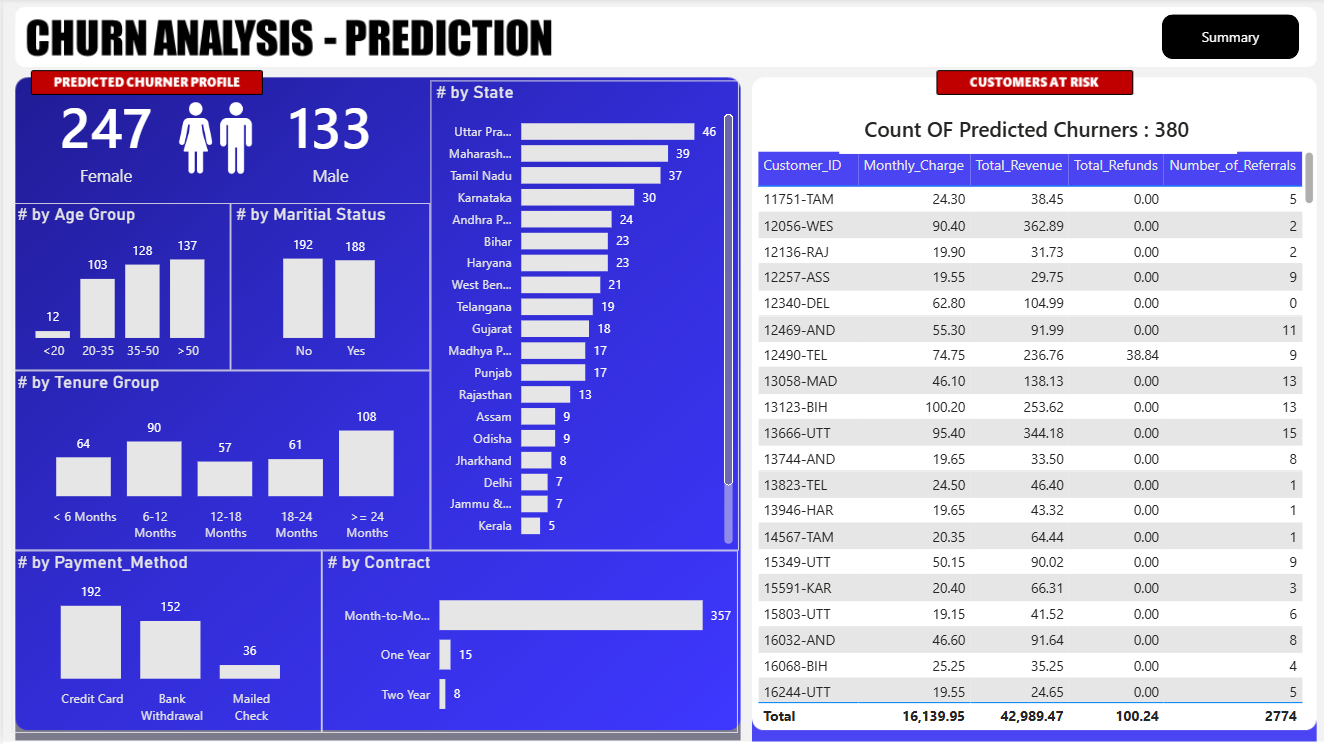

The dashboard page shown, as its layout file describes it:
{"tool":"powerbi","page":{"name":"Churn Prediction","canvas":[1280,720],"ordinal":2},"visuals":[{"type":"tableEx","fields":{"Values":["Predictions.Customer_ID","Sum(Predictions.Monthly_Charge)","Sum(Predictions.Total_Revenue)","Sum(Predictions.Total_Refunds)","Sum(Predictions.Number_of_Referrals)"]},"box":[722.7,143.6,547.7,565.8],"z":0},{"type":"cardVisual","fields":{"Data":["Measure Table 2.Title Predicted Churners"]},"box":[802.3,95.3,394.5,60.3],"z":1000},{"type":"cardVisual","fields":{"Data":["Measure Table 2.Count Predicted Churner"]},"box":[8.4,71.2,182.2,126.7],"z":2000},{"type":"cardVisual","fields":{"Data":["Measure Table 2.Count Predicted Churner"]},"box":[219.6,71.2,193,126.7],"z":3000},{"type":"clusteredColumnChart","fields":{"Category":["mapping_AgeGroup.Age Group"],"Y":["CountNonNull(Predictions.Customer_ID)"]},"box":[8.4,197.9,211.1,161.7],"z":4000},{"type":"clusteredColumnChart","fields":{"Category":["Predictions.Married"],"Y":["CountNonNull(Predictions.Customer_ID)"]},"box":[219.6,197.9,193,161.7],"z":5000},{"type":"clusteredColumnChart","fields":{"Category":["mapping_TenureGroup.Tenure Group"],"Y":["CountNonNull(Predictions.Customer_ID)"]},"box":[8.4,359.5,404.2,173.7],"z":6000},{"type":"clusteredColumnChart","fields":{"Category":["Predictions.Payment_Method"],"Y":["CountNonNull(Predictions.Customer_ID)"]},"box":[8.4,533.2,299.2,176.1],"z":7000},{"type":"barChart","fields":{"Category":["Predictions.Contract"],"Y":["CountNonNull(Predictions.Customer_ID)"]},"box":[307.6,533.2,401.7,176.1],"z":8000},{"type":"barChart","fields":{"Category":["Predictions.State"],"Y":["CountNonNull(Predictions.Customer_ID)"]},"box":[412.6,79.6,298,453.6],"z":9000},{"type":"image","box":[124.3,90.5,161.7,88.1],"z":10000},{"type":"shape","box":[1118.4,15.7,132.7,43.4],"z":11000}]}

Visuals, with their boxes in screenshot pixels (x1, y1, x2, y2), scaled from the page's 1280x720 canvas onto the 1324x744 screenshot:
tableEx - Predictions.Customer_ID x Sum(Predictions.Monthly_Charge): crop(748, 148, 1314, 733)
cardVisual - Measure Table 2.Title Predicted Churners: crop(830, 98, 1238, 161)
cardVisual - Measure Table 2.Count Predicted Churner: crop(9, 74, 197, 204)
cardVisual - Measure Table 2.Count Predicted Churner: crop(227, 74, 427, 204)
clusteredColumnChart - mapping_AgeGroup.Age Group x CountNonNull(Predictions.Customer_ID): crop(9, 204, 227, 372)
clusteredColumnChart - Predictions.Married x CountNonNull(Predictions.Customer_ID): crop(227, 204, 427, 372)
clusteredColumnChart - mapping_TenureGroup.Tenure Group x CountNonNull(Predictions.Customer_ID): crop(9, 371, 427, 551)
clusteredColumnChart - Predictions.Payment_Method x CountNonNull(Predictions.Customer_ID): crop(9, 551, 318, 733)
barChart - Predictions.Contract x CountNonNull(Predictions.Customer_ID): crop(318, 551, 734, 733)
barChart - Predictions.State x CountNonNull(Predictions.Customer_ID): crop(427, 82, 735, 551)
image: crop(129, 94, 296, 185)
shape: crop(1157, 16, 1294, 61)
